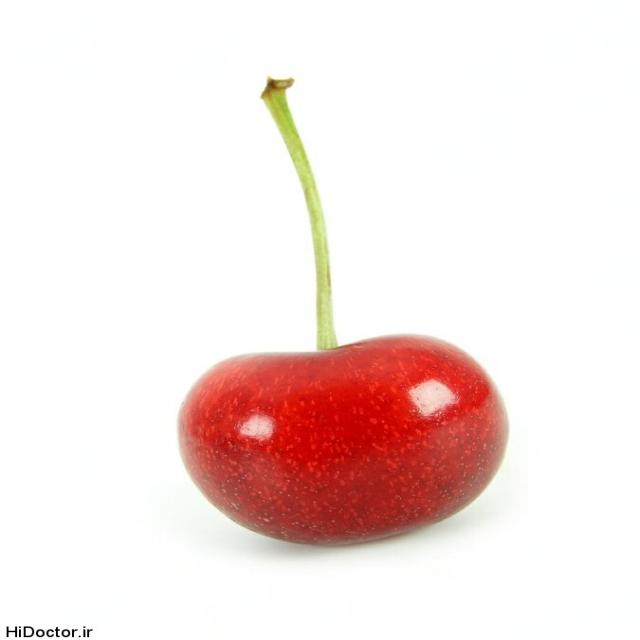cherry: (173, 75, 515, 550)
